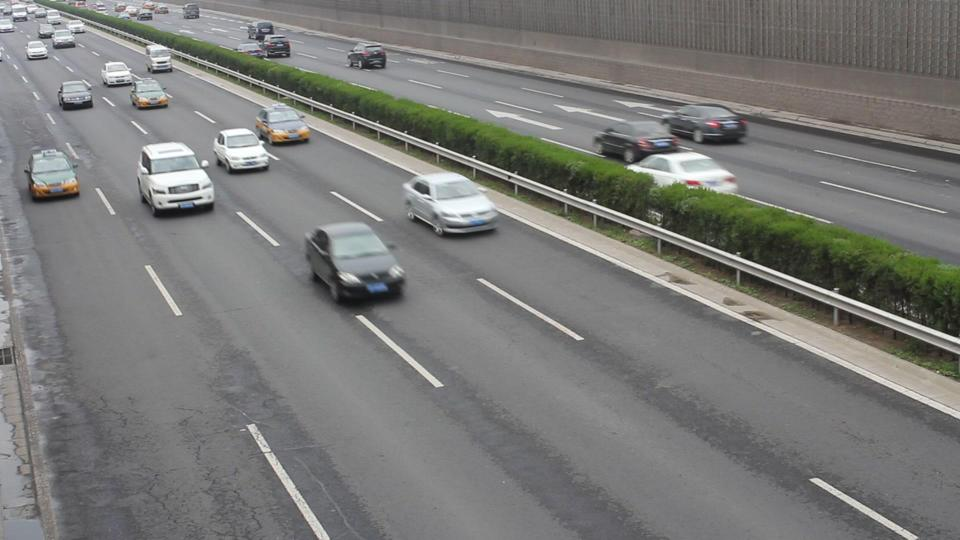Car: (307, 221, 402, 304), (402, 170, 499, 236), (135, 141, 214, 217), (625, 153, 734, 203), (660, 102, 746, 146), (591, 119, 675, 162), (27, 150, 80, 201), (212, 126, 269, 172), (255, 105, 309, 146), (131, 78, 168, 111), (346, 41, 386, 71), (57, 79, 94, 111)
